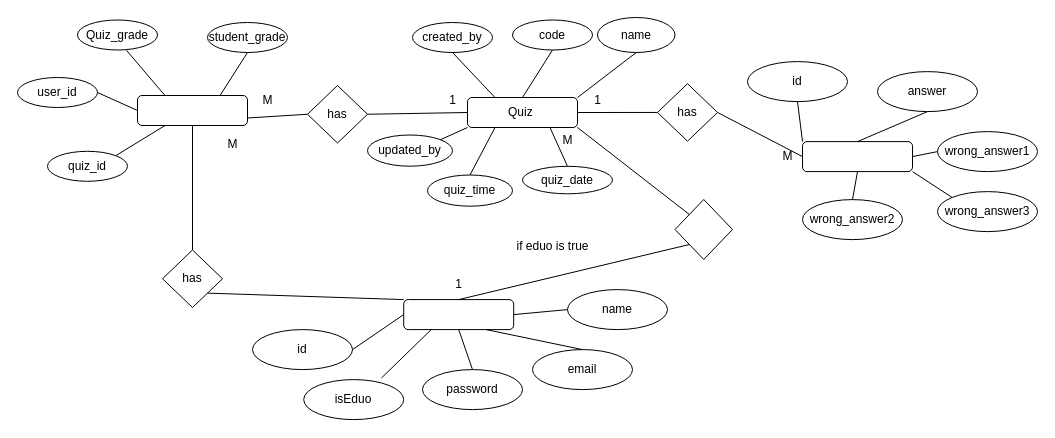
The diagram is 1055 pixels wide and 438 high, and some of its shapes have lost their labels. The shapes that lost their labels are listed below. From the top down, each one's centre as x and y in pixels, then its label:
pixel 192 110: grades
pixel 857 156: Quiz Details
pixel 703 229: Put
pixel 458 314: Educator
